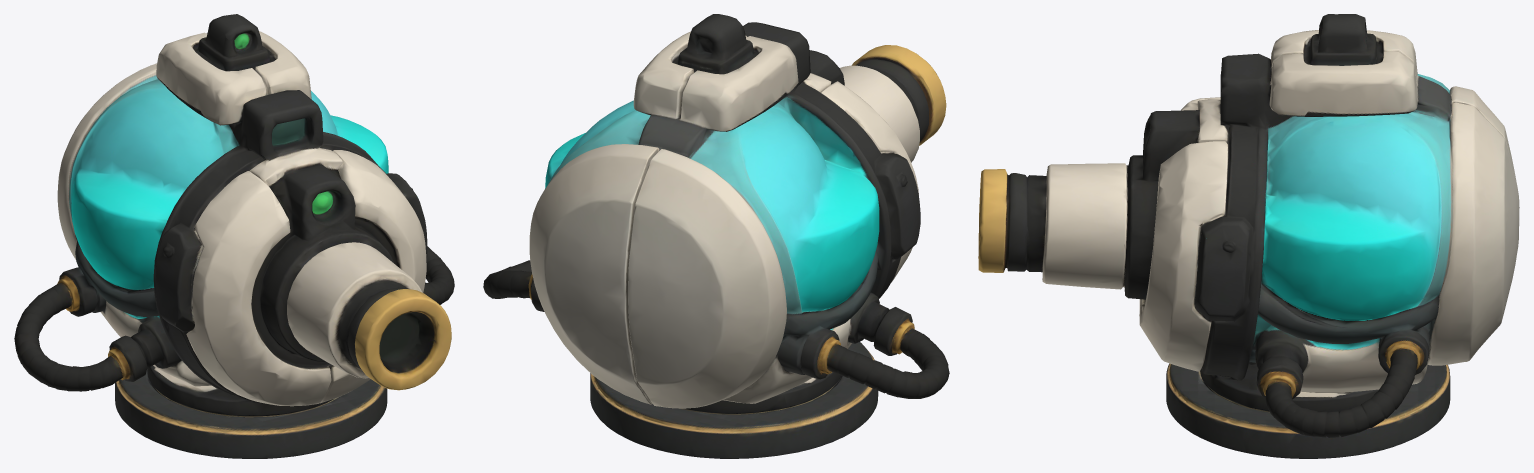
The model's file is bubble_cannon.glb.
3 renders of one model, left to right at view 1: azimuth 30°, elevation 25°; view 2: azimuth 150°, elevation 25°; view 3: azimuth 270°, elevation 25°, orthographic. The views are drawn at different scales.
Visible parts, largest first — view 1: tripo_node_7ee7921a-051b-42a7-a109-b4e1e7ceff47; view 2: tripo_node_7ee7921a-051b-42a7-a109-b4e1e7ceff47; view 3: tripo_node_7ee7921a-051b-42a7-a109-b4e1e7ceff47.
Boxes of the visible parts, x1=… form: tripo_node_7ee7921a-051b-42a7-a109-b4e1e7ceff47: x1=14, y1=14, x2=454, y2=458; tripo_node_7ee7921a-051b-42a7-a109-b4e1e7ceff47: x1=483, y1=14, x2=949, y2=458; tripo_node_7ee7921a-051b-42a7-a109-b4e1e7ceff47: x1=978, y1=14, x2=1519, y2=458.
Size of the model in its own units: 0.9203 by 0.7809 by 1.
Materials: 1 (1 with a texture image).
